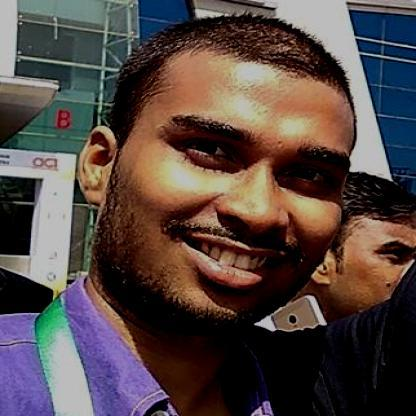without_mask: (129, 108, 323, 337)
